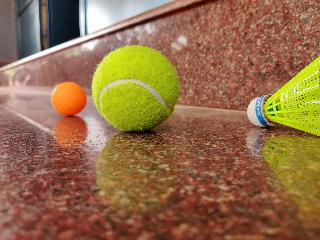shuttlecock: (247, 56, 319, 136)
